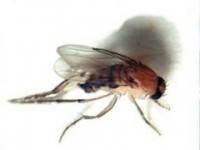phorid fly: (9, 7, 188, 143)
